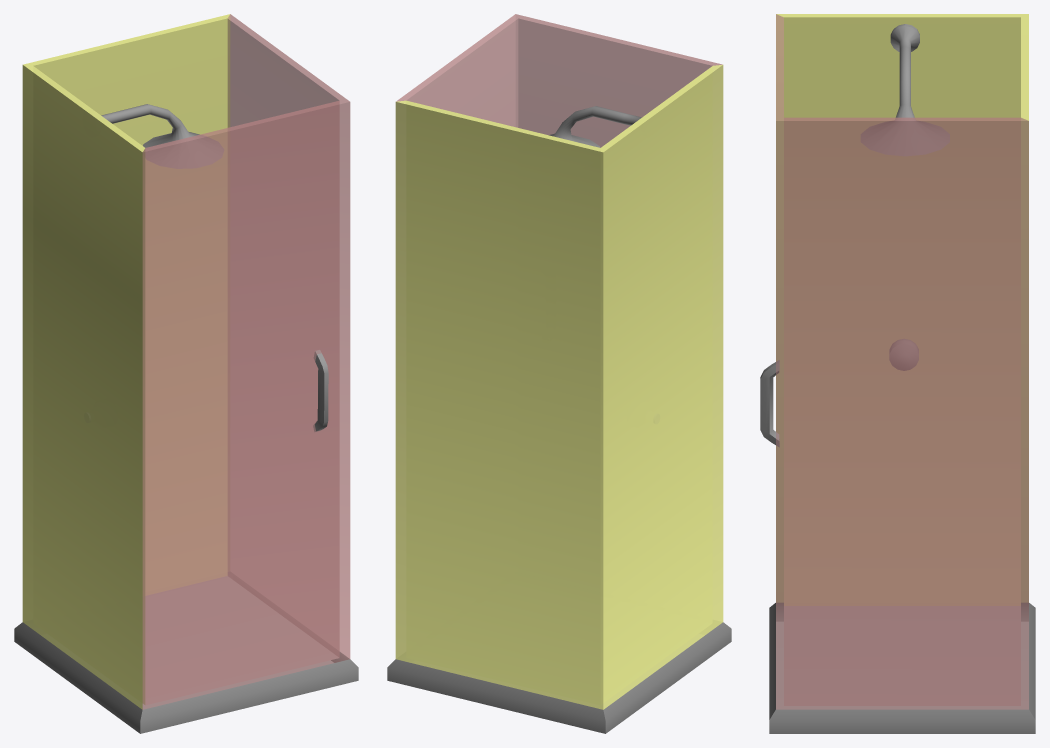
The model's file is Shower.FBX.
3 renders of one model, left to right at view 1: azimuth 30°, elevation 25°; view 2: azimuth 150°, elevation 25°; view 3: azimuth 270°, elevation 25°, orthographic. The views are drawn at different scales.
Parts seen in each view (by area): view 1: Chuveiro; view 2: Chuveiro; view 3: Chuveiro.
Part boxes in pixels (x1,y1,x2,y2): Chuveiro: (14,14,358,733); Chuveiro: (387,14,731,733); Chuveiro: (760,14,1035,733).
Size of the model in its own units: 32.58 by 82.44 by 33.68.
